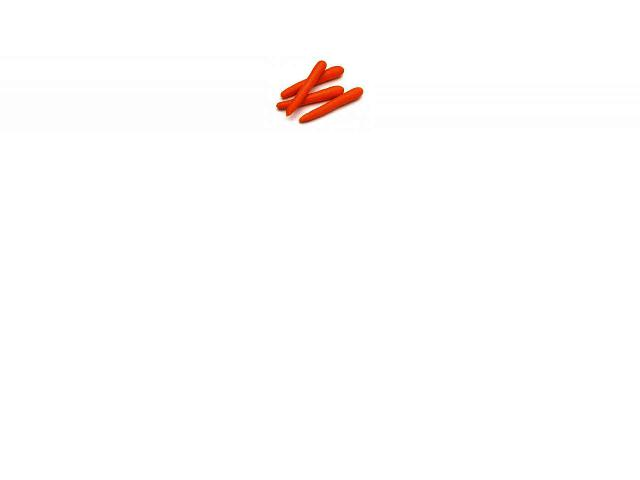carrot: (280, 63, 347, 97)
